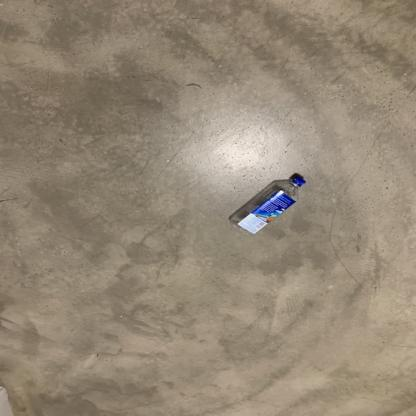trash: (228, 170, 310, 238)
